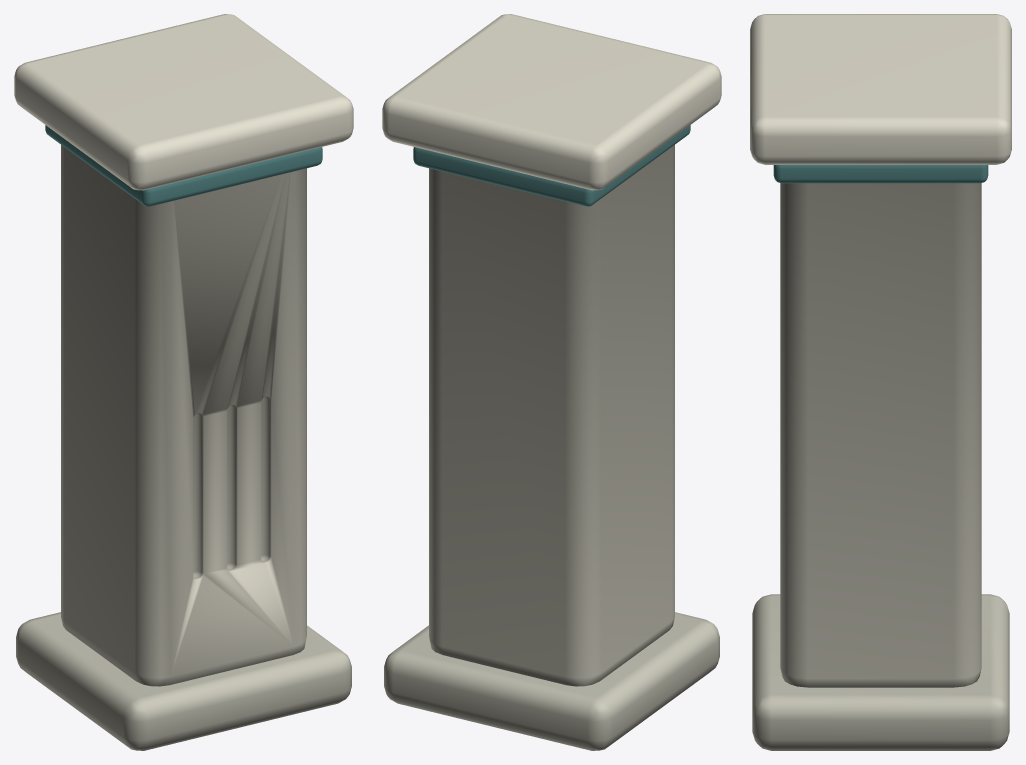
The model's file is service_pillar.glb.
The picture shows the model from 3 angles, left to right: view 1: azimuth 30°, elevation 25°; view 2: azimuth 150°, elevation 25°; view 3: azimuth 270°, elevation 25°; orthographic projection. The views are drawn at different scales.
Parts seen in each view (by area): view 1: service_pillar; view 2: service_pillar; view 3: service_pillar.
Boxes of the visible parts, x1,y1,x2,y2 form: service_pillar: (14,14,353,750); service_pillar: (382,14,721,750); service_pillar: (750,14,1011,750).
Bounding box in the file's own units: 1.27 × 3.26 × 1.22.
